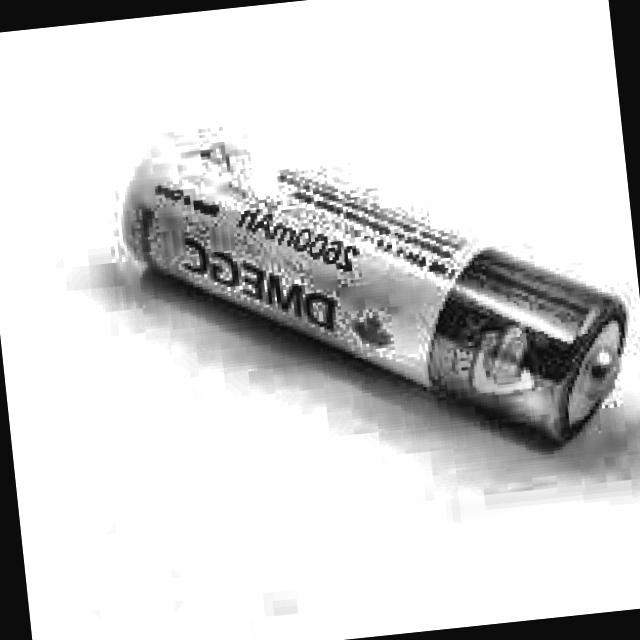Battery: (116, 90, 634, 480)
